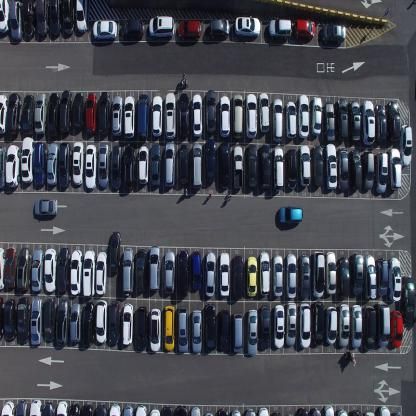car: (6, 92, 22, 136), (56, 298, 70, 347), (16, 247, 31, 292), (5, 144, 20, 188), (402, 275, 416, 322), (363, 254, 377, 300), (362, 304, 376, 350), (30, 296, 43, 345), (17, 295, 30, 344), (361, 100, 375, 145), (388, 256, 402, 301), (163, 140, 176, 188), (21, 136, 34, 184), (234, 15, 261, 38), (388, 146, 402, 190), (350, 252, 364, 296), (122, 246, 134, 297), (137, 93, 150, 140), (47, 92, 60, 139), (58, 141, 71, 188), (376, 300, 389, 347), (312, 251, 325, 298), (298, 301, 311, 348), (82, 249, 95, 296), (43, 295, 56, 342), (57, 247, 70, 294), (3, 246, 17, 289), (148, 15, 174, 38), (82, 300, 95, 346), (386, 100, 400, 142), (374, 151, 388, 193), (219, 140, 231, 189), (9, 0, 23, 42), (204, 303, 216, 352), (59, 89, 72, 134), (34, 90, 47, 135), (33, 141, 46, 186), (108, 300, 121, 345), (95, 250, 108, 295), (325, 142, 337, 190), (232, 92, 244, 140), (246, 308, 258, 356), (148, 244, 160, 292), (266, 17, 291, 40), (324, 305, 338, 346), (348, 98, 361, 142), (335, 97, 348, 141), (337, 256, 350, 300), (95, 300, 108, 344), (4, 297, 17, 341), (31, 248, 44, 292), (259, 143, 271, 190), (246, 143, 258, 190), (177, 249, 188, 300), (21, 93, 34, 136), (297, 92, 309, 138), (245, 92, 257, 138), (232, 144, 244, 190), (98, 90, 110, 136), (312, 300, 324, 346), (259, 304, 271, 350), (218, 252, 230, 298), (136, 305, 148, 351), (70, 249, 82, 295), (44, 247, 56, 293), (92, 20, 117, 42), (399, 124, 412, 166), (337, 147, 349, 192), (272, 97, 284, 142), (85, 144, 97, 189), (46, 141, 58, 186), (350, 304, 362, 349), (298, 253, 310, 298), (284, 253, 296, 298), (285, 301, 297, 346), (258, 251, 270, 296), (149, 307, 161, 352), (109, 230, 121, 275), (178, 90, 189, 139), (35, 0, 49, 38), (22, 0, 36, 38), (389, 310, 403, 348), (258, 90, 270, 134), (165, 91, 176, 139), (124, 94, 136, 138), (112, 94, 124, 138), (85, 92, 97, 136), (98, 144, 110, 188), (72, 141, 84, 185), (337, 304, 349, 348), (272, 254, 284, 298), (218, 307, 230, 351), (122, 302, 134, 346), (70, 301, 82, 345), (320, 25, 346, 45), (375, 257, 388, 297), (164, 304, 175, 351), (299, 145, 311, 188), (205, 88, 216, 134), (205, 137, 216, 183), (150, 143, 161, 189), (205, 251, 216, 297), (191, 308, 202, 354), (350, 148, 362, 190), (286, 148, 298, 190), (72, 90, 84, 132), (177, 19, 201, 40), (34, 197, 58, 218), (278, 205, 303, 225), (124, 145, 135, 190), (325, 251, 336, 296), (136, 248, 147, 293), (323, 102, 335, 143), (312, 144, 323, 188), (273, 146, 284, 190), (294, 18, 316, 40), (151, 94, 162, 138), (164, 250, 175, 294), (49, 0, 62, 37), (374, 103, 386, 143), (362, 150, 374, 190), (285, 100, 297, 140), (192, 141, 202, 189), (178, 305, 188, 353), (178, 143, 189, 186), (111, 145, 122, 188), (246, 255, 257, 297), (233, 254, 243, 300), (120, 19, 144, 38), (219, 95, 230, 136), (191, 250, 202, 291), (192, 93, 202, 138), (274, 304, 284, 349), (209, 18, 230, 39), (311, 96, 322, 136), (232, 312, 243, 352), (62, 0, 74, 36), (138, 144, 148, 185), (76, 0, 88, 33), (0, 145, 7, 190), (0, 92, 7, 136), (0, 0, 9, 33), (16, 398, 29, 416), (0, 246, 5, 290), (30, 398, 42, 416), (1, 400, 15, 415), (42, 401, 56, 415), (56, 400, 68, 415), (0, 295, 4, 339), (95, 403, 108, 415), (82, 402, 94, 415), (68, 403, 81, 415), (109, 403, 121, 415), (378, 404, 390, 415), (176, 404, 188, 415), (323, 404, 334, 415), (162, 404, 173, 415), (135, 404, 146, 415), (309, 406, 321, 416), (257, 405, 269, 415), (123, 404, 133, 415), (190, 405, 200, 415), (336, 408, 348, 416), (297, 407, 309, 415), (217, 408, 229, 416), (351, 408, 362, 416), (149, 408, 160, 416), (244, 408, 256, 415), (231, 408, 241, 416), (203, 410, 214, 416), (392, 410, 402, 416), (364, 410, 374, 416), (271, 410, 281, 416)
